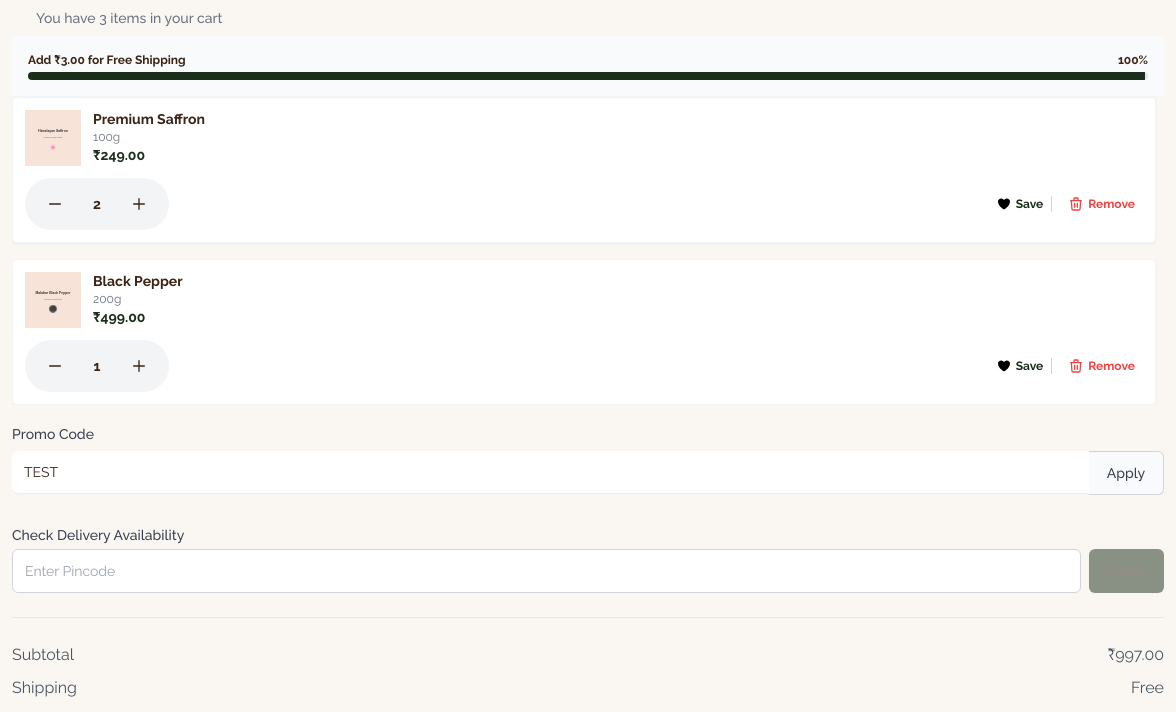
Scenario: Cart › Promo Code › should disable promo input and button during loading
The image size is (1176, 712).
What coordinates should you click on to do the following:
click the button "Apply"
I would click on:
 (1126, 473)
Its box is [1089, 451, 1164, 495].
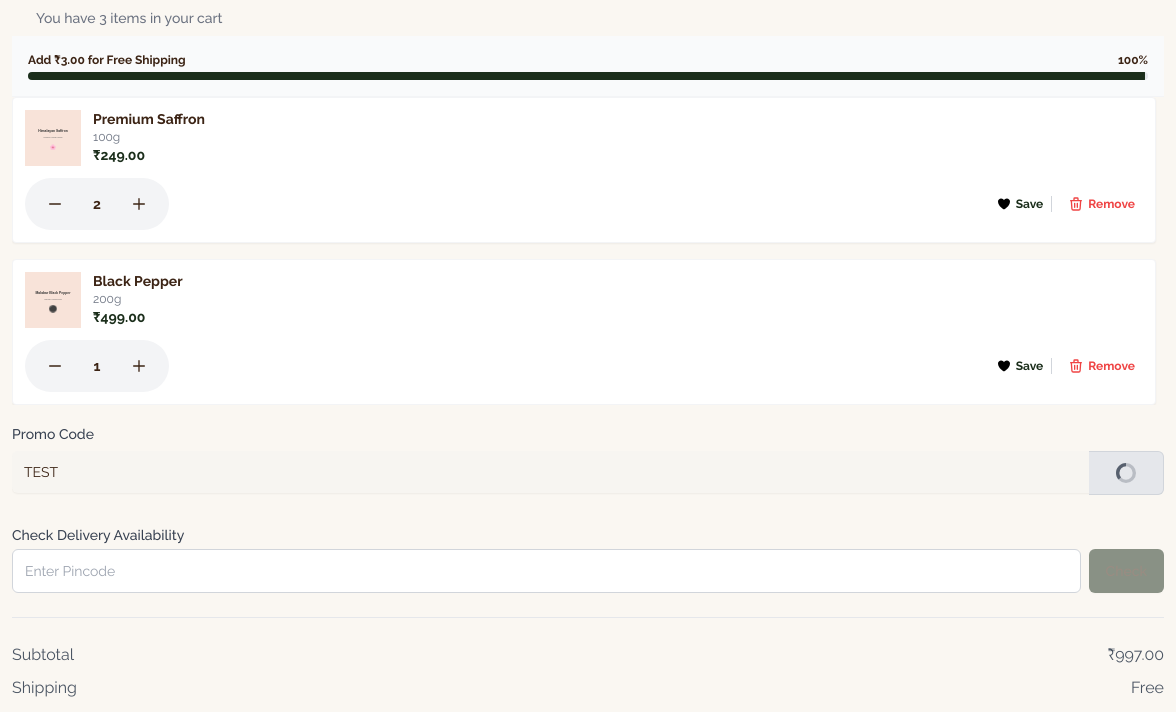
Check: the field with placeholder "RATHI10" is disabled, box [12, 451, 1089, 493]
Check: the button named "Apply" is disabled, box [1089, 451, 1164, 495]
